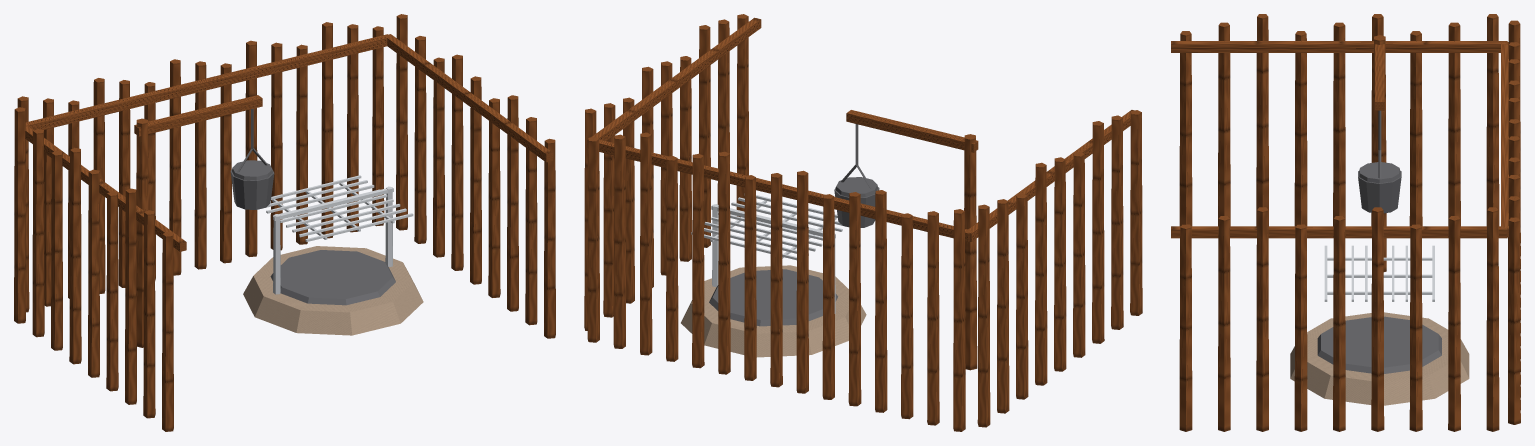
File: safari-camp-and-bush-lodge-kitchen-boma-and-grill-015c486e__37684.glb
The picture shows the model from 3 angles, left to right: view 1: azimuth 30°, elevation 25°; view 2: azimuth 150°, elevation 25°; view 3: azimuth 270°, elevation 25°; orthographic projection. The views are drawn at different scales.
Visible parts, largest first — view 1: kitchen-boma-and-grill-timber, kitchen-boma-and-grill-earth, kitchen-boma-and-grill-steel, kitchen-boma-and-grill-charcoal, pot; view 2: kitchen-boma-and-grill-timber, kitchen-boma-and-grill-earth, kitchen-boma-and-grill-charcoal, kitchen-boma-and-grill-steel, pot; view 3: kitchen-boma-and-grill-timber, kitchen-boma-and-grill-earth, kitchen-boma-and-grill-charcoal, pot, kitchen-boma-and-grill-steel.
Boxes of the visible parts, box(x1,y1,x2,y2) form: kitchen-boma-and-grill-timber: box(14, 14, 555, 431); kitchen-boma-and-grill-earth: box(243, 246, 423, 335); kitchen-boma-and-grill-steel: box(266, 175, 413, 294); kitchen-boma-and-grill-charcoal: box(270, 250, 395, 305); pot: box(230, 108, 274, 209); kitchen-boma-and-grill-timber: box(584, 14, 1142, 431); kitchen-boma-and-grill-earth: box(681, 265, 866, 357); kitchen-boma-and-grill-charcoal: box(709, 269, 837, 326); kitchen-boma-and-grill-steel: box(691, 193, 842, 313); pot: box(834, 124, 879, 227); kitchen-boma-and-grill-timber: box(1171, 14, 1520, 431); kitchen-boma-and-grill-earth: box(1290, 312, 1469, 405); kitchen-boma-and-grill-charcoal: box(1317, 316, 1441, 373); pot: box(1358, 110, 1401, 213); kitchen-boma-and-grill-steel: box(1324, 245, 1434, 301).
Bounding box in the file's own units: 3.49 × 1.9 × 2.6.
4 materials, 2 textured.
